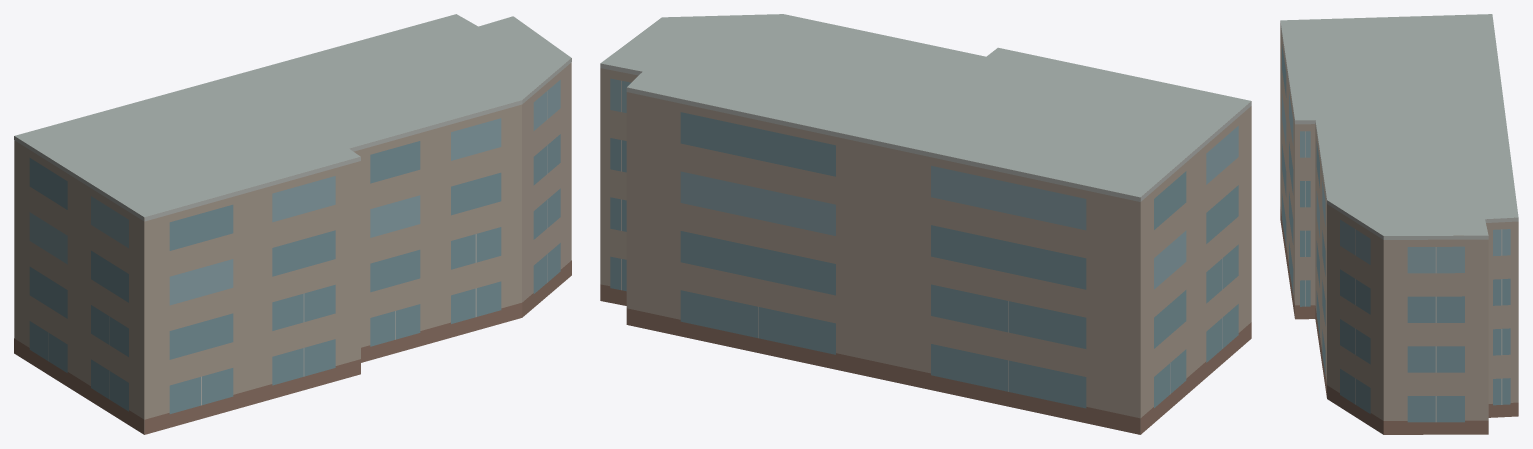
File: survey-upis-32634449.glb
3 renders of one model, left to right at view 1: azimuth 30°, elevation 25°; view 2: azimuth 150°, elevation 25°; view 3: azimuth 270°, elevation 25°, orthographic. The views are drawn at different scales.
Parts seen in each view (by area): view 1: survey-upis-32634449.tmp; view 2: survey-upis-32634449.tmp; view 3: survey-upis-32634449.tmp.
Boxes of the visible parts, <box> form: survey-upis-32634449.tmp: <box>14,14,571,434</box>; survey-upis-32634449.tmp: <box>600,14,1251,434</box>; survey-upis-32634449.tmp: <box>1280,14,1518,434</box>.
Bounding box in the file's own units: 29.71 × 12.4 × 13.48.
